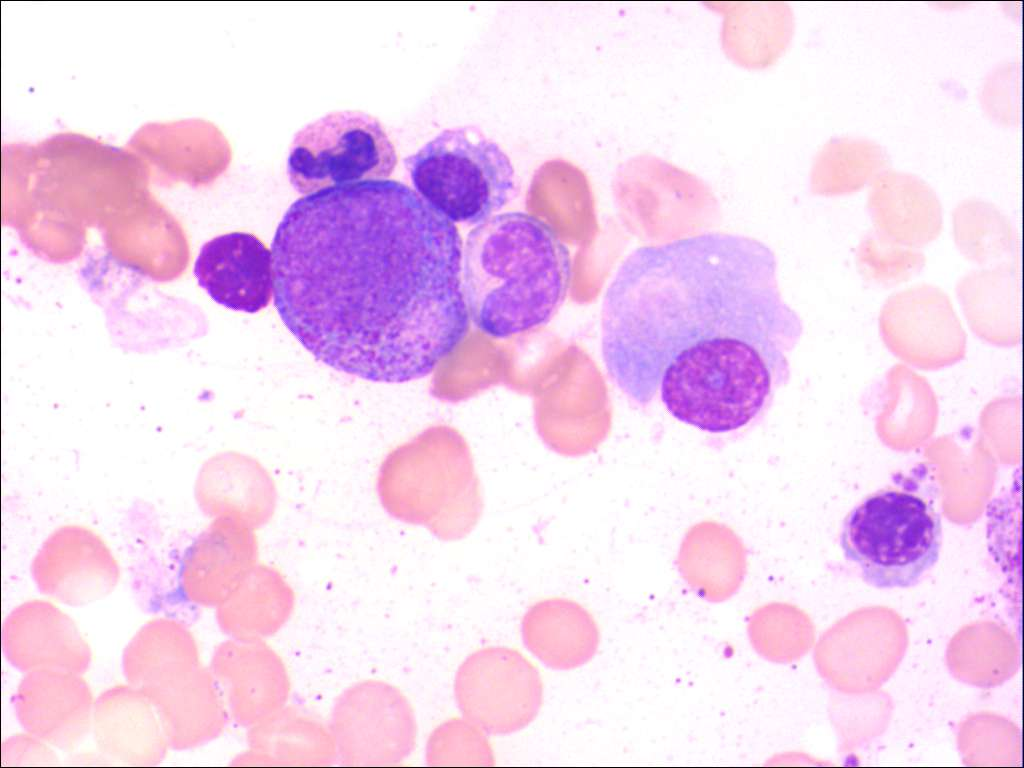24: (458, 209, 575, 340), (837, 459, 948, 593), (401, 121, 523, 229)
3: (269, 175, 475, 387)
51: (596, 228, 807, 437)
6: (285, 105, 399, 199)
x: (193, 228, 275, 317)
